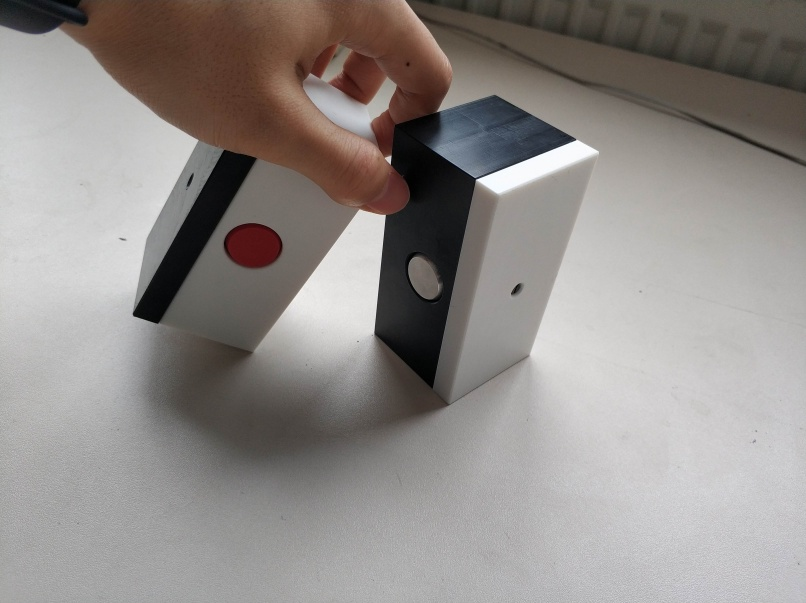black+white+red: (130, 136, 362, 356)
white+black+silver: (370, 92, 602, 406)
